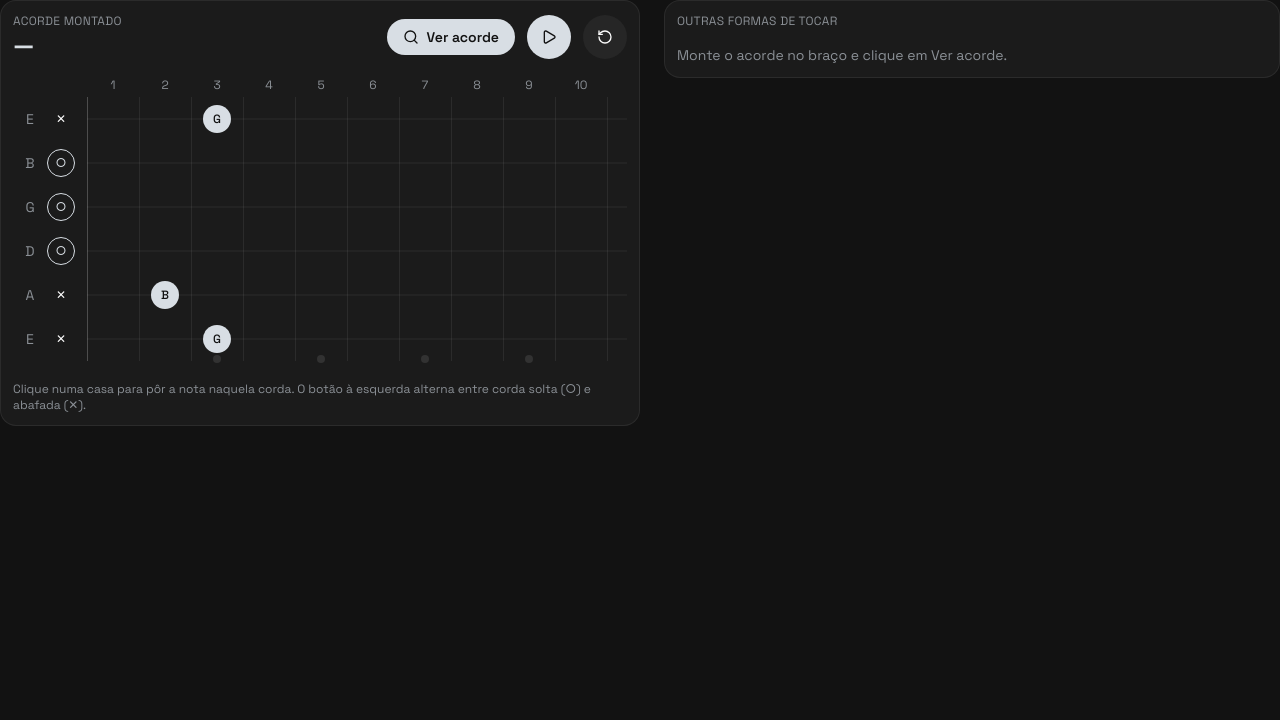
Test: ChordPanel › clears the neck
Click the button "Ver acorde" at (451, 37), box [386,19,515,55]
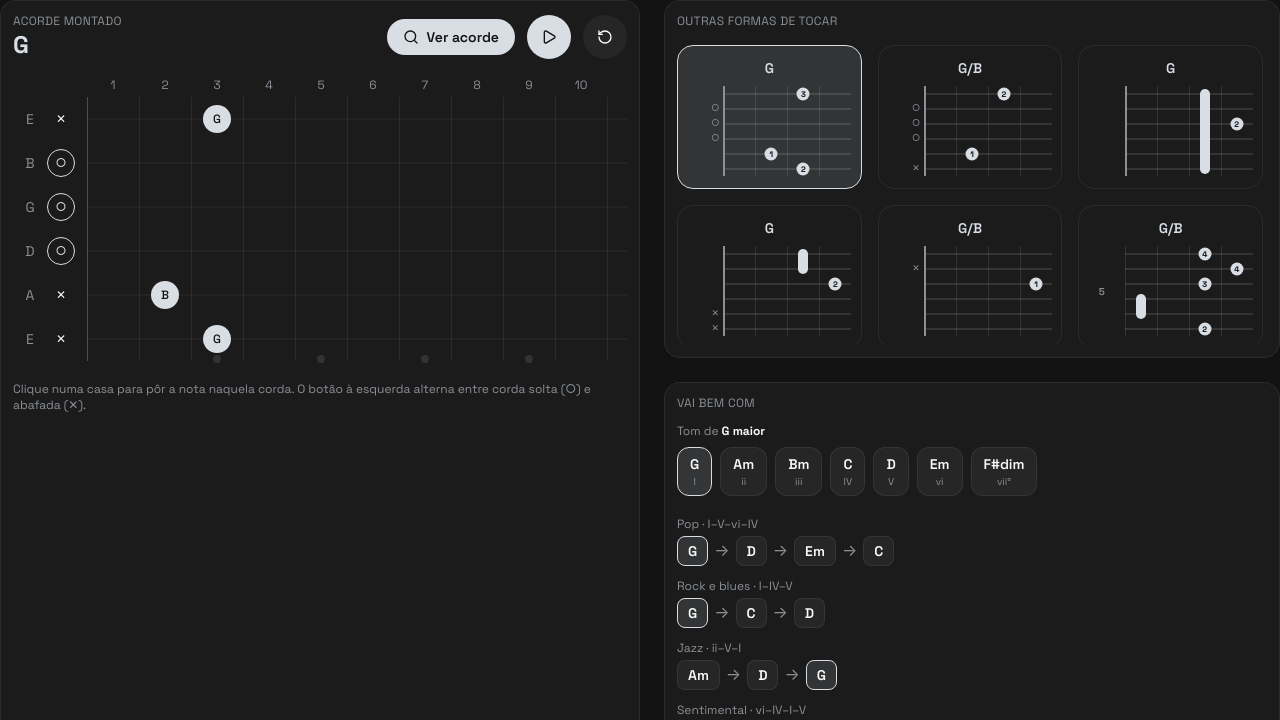
Click the button named "limpar acorde" at (605, 37), box [583,15,627,59]
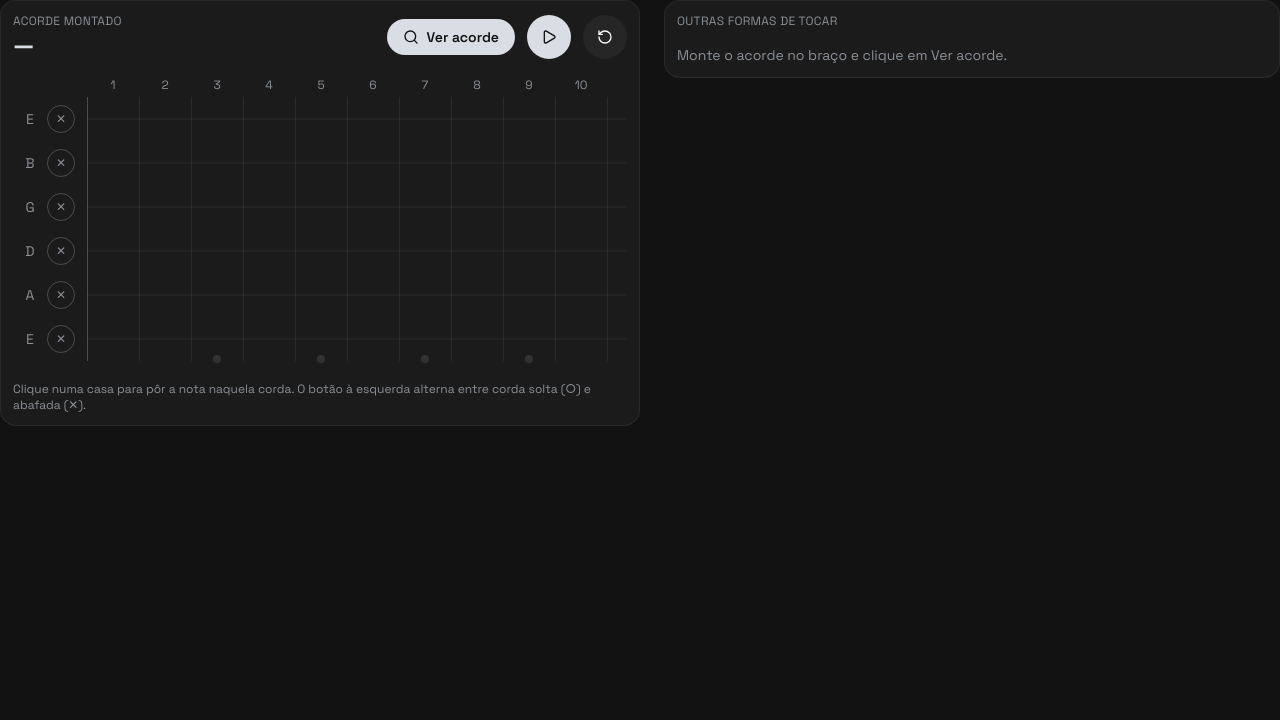
Expected: the text with test id "chord-name" reads "—", [13,29,34,60]
